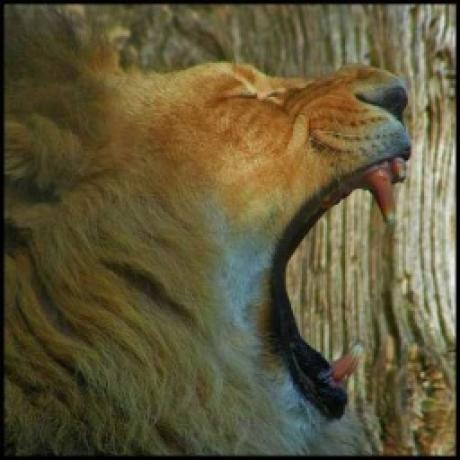Lion: (0, 0, 417, 460)
